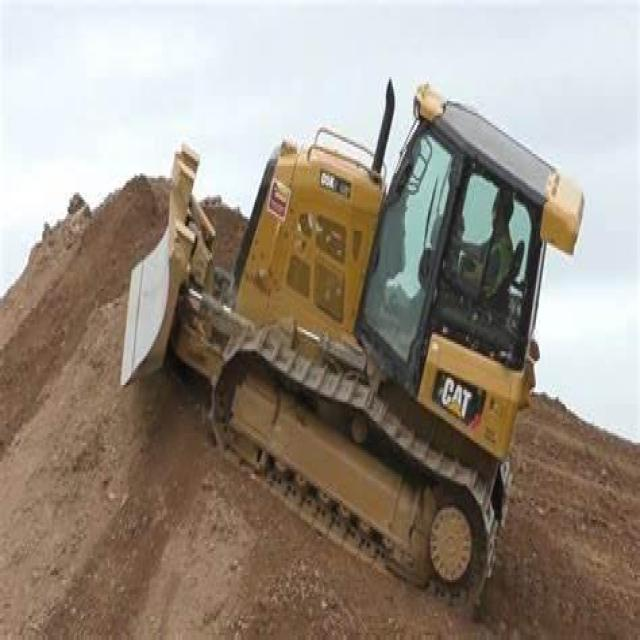buldozerpayloadergrader: (108, 62, 577, 616)
